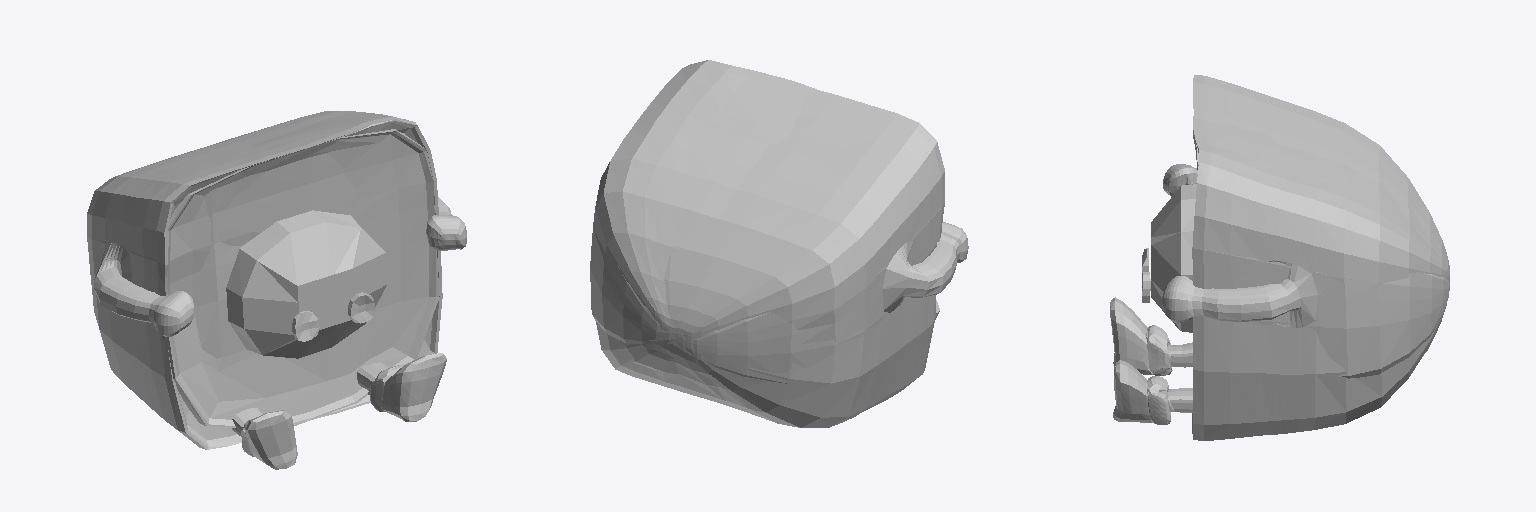
The model's file is Pal_000038.obj.
3 renders of one model, left to right at view 1: azimuth 30°, elevation 25°; view 2: azimuth 150°, elevation 25°; view 3: azimuth 270°, elevation 25°, orthographic.
Visible parts, largest first — view 1: Cuerpo_de_aguacate_3.001_Cube.002, Hueso_Cubo.003, Ojos_Cubo.002; view 2: Cuerpo_de_aguacate_3.001_Cube.002; view 3: Cuerpo_de_aguacate_3.001_Cube.002, Hueso_Cubo.003.
Boxes of the visible parts, x1=… form: Cuerpo_de_aguacate_3.001_Cube.002: x1=87, y1=111, x2=466, y2=469; Hueso_Cubo.003: x1=226, y1=210, x2=387, y2=358; Ojos_Cubo.002: x1=292, y1=292, x2=374, y2=341; Cuerpo_de_aguacate_3.001_Cube.002: x1=590, y1=60, x2=968, y2=427; Cuerpo_de_aguacate_3.001_Cube.002: x1=1110, y1=75, x2=1449, y2=440; Hueso_Cubo.003: x1=1151, y1=184, x2=1196, y2=332.
Bounding box in the file's own units: 1.13 × 0.9302 × 1.01.